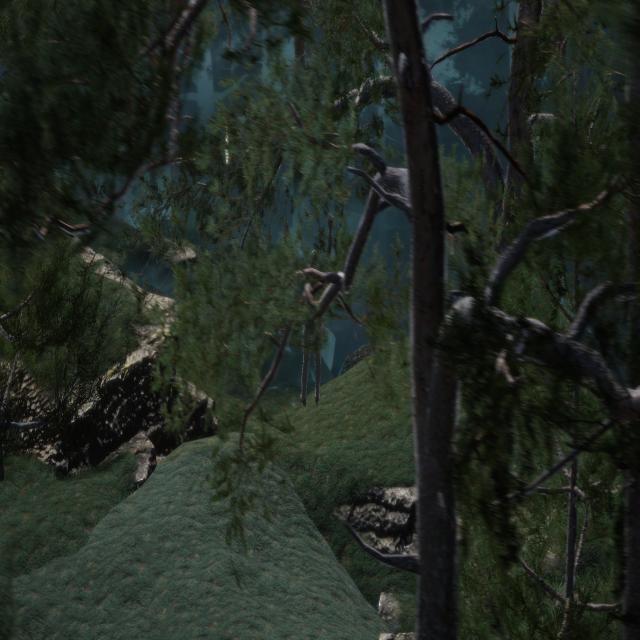Human: (282, 202, 343, 416)
